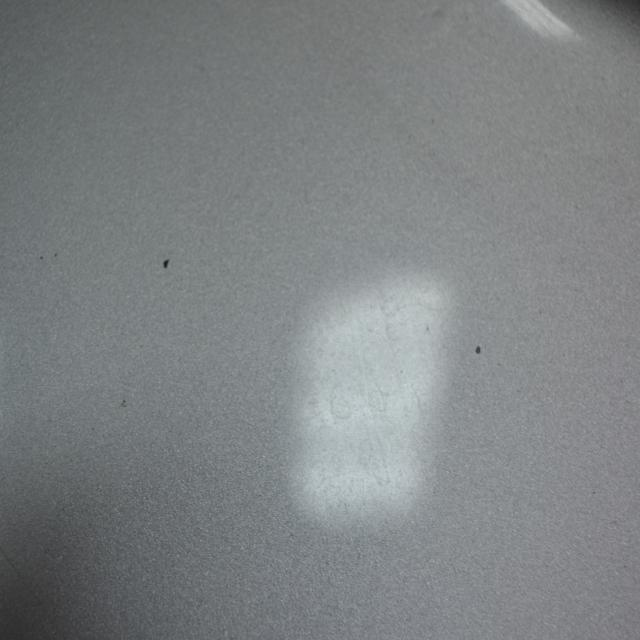dirt: (161, 252, 170, 273), (472, 342, 482, 358), (119, 394, 130, 408), (37, 251, 46, 264), (52, 250, 60, 259)
water marks: (360, 297, 439, 497), (296, 316, 362, 439), (310, 444, 376, 540)
